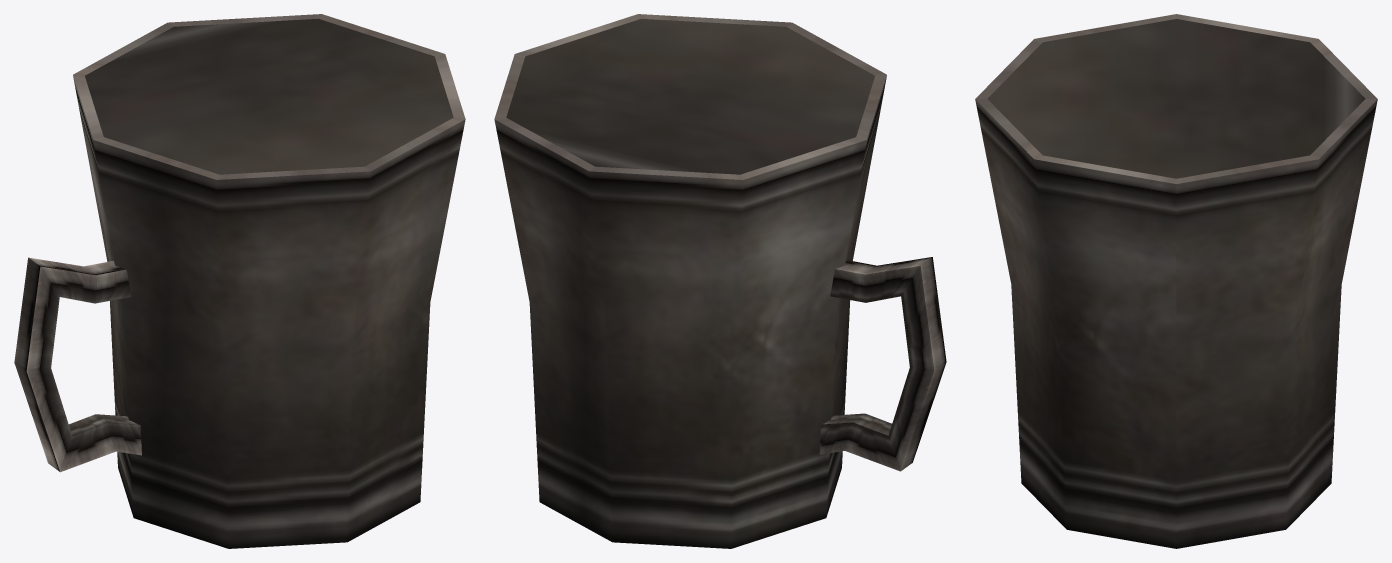
Rendered from cup_tin.fbx.
The picture shows the model from 3 angles, left to right: view 1: azimuth 30°, elevation 25°; view 2: azimuth 150°, elevation 25°; view 3: azimuth 270°, elevation 25°; orthographic projection.
Parts seen in each view (by area): view 1: lod_high; view 2: lod_high; view 3: lod_high.
Part boxes in pixels (x1=…): lod_high: x1=14, y1=14, x2=465, y2=548; lod_high: x1=494, y1=14, x2=946, y2=548; lod_high: x1=975, y1=14, x2=1377, y2=548.
Size of the model in its own units: 90.45 by 78.92 by 74.89.
Materials: 1 (1 with a texture image).
